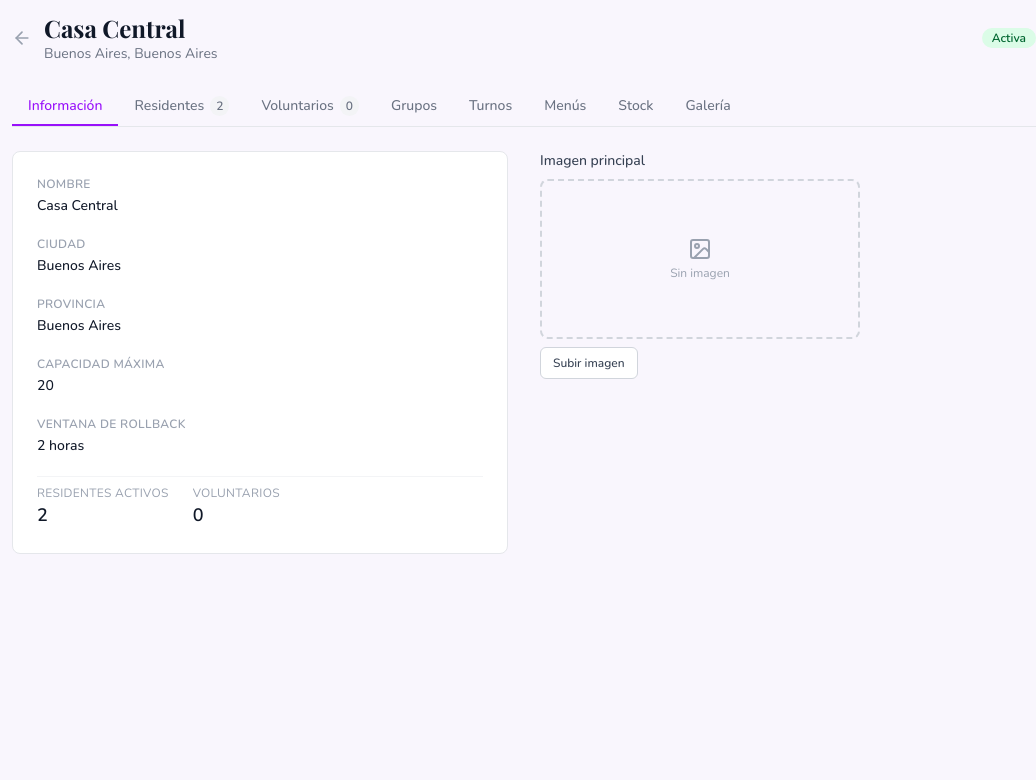
Test case: ResidenciaDetailPage — tab Residentes con datos › muestra tabla con nombre, DNI, universidad y carrera
This screenshot has width=1036, height=780.
Click the tab "Residentes 2" at (182, 107), box top-left (118, 88), bottom-right (245, 126)
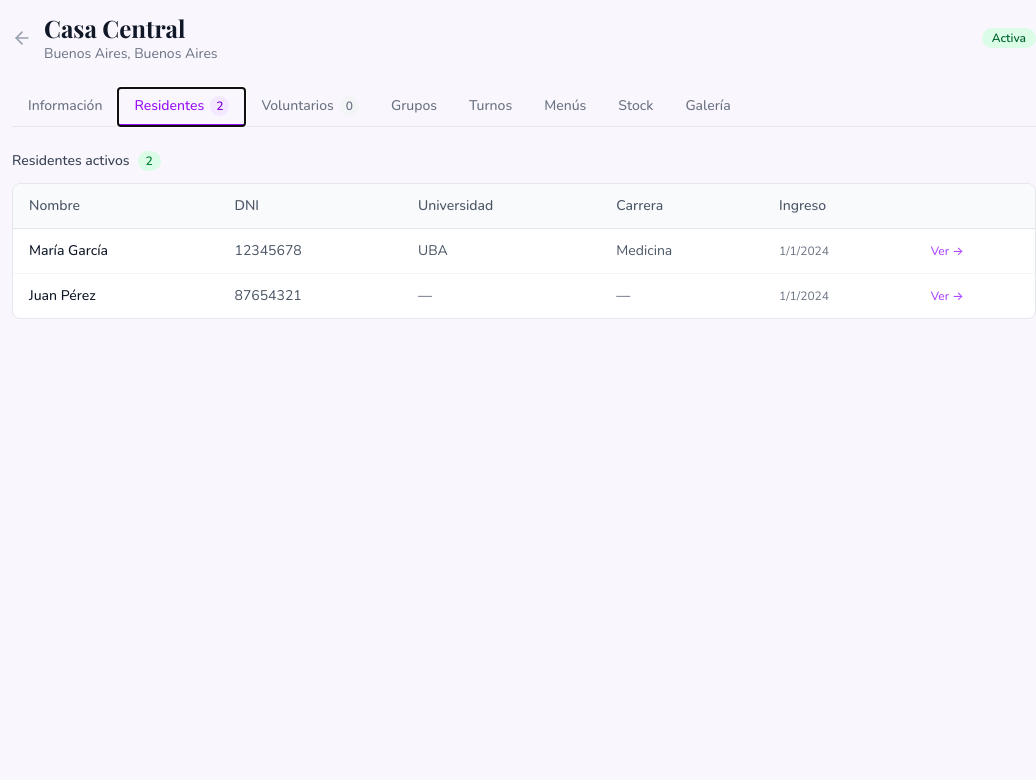
Now the text "María García" is shown, box top-left (13, 228), bottom-right (218, 274)
Now the text "12345678" is shown, box top-left (218, 228), bottom-right (402, 274)
Now the text "UBA" is shown, box top-left (402, 228), bottom-right (600, 274)
